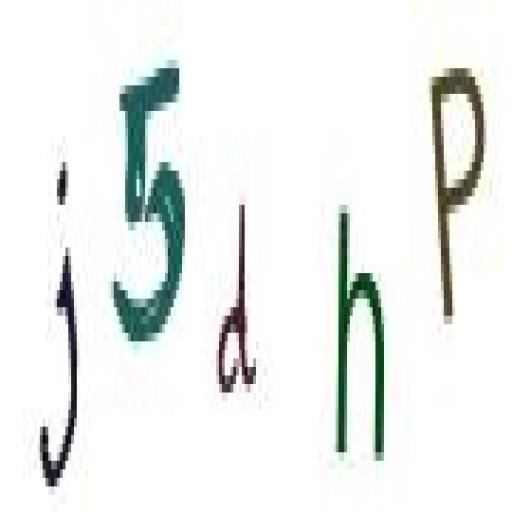5: (110, 48, 190, 370)
P: (423, 41, 490, 350)
d: (215, 190, 260, 420)
h: (333, 187, 389, 483)
j: (32, 137, 84, 512)
